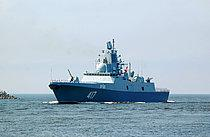MIL_Ship: (47, 38, 171, 103)
